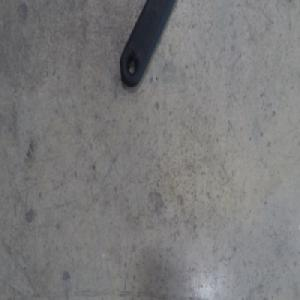AdjustableWrench: (120, 0, 173, 87)
